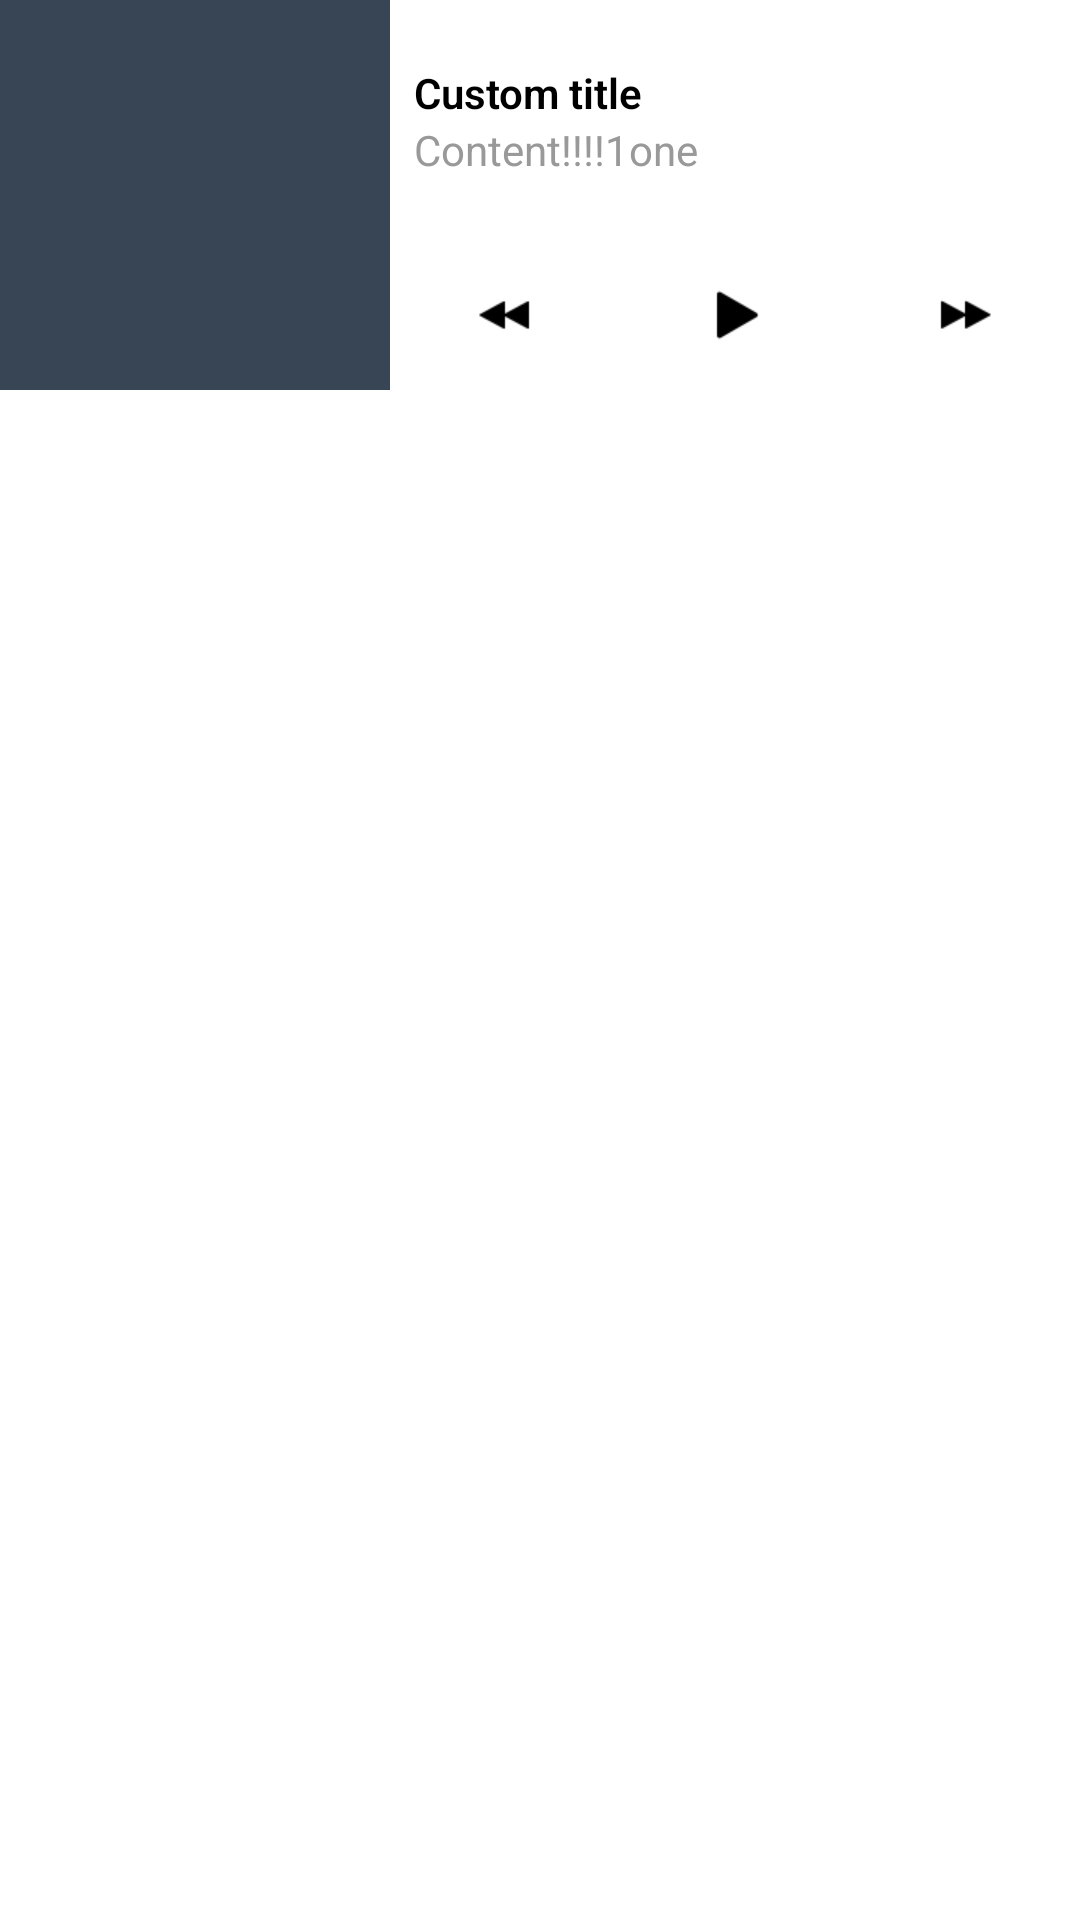

Locate icon controls on the screen. Image size 1080px×1920px, boxes as rect(x1, y1, x2, y2).
next: rect(940, 300, 991, 329)
play: rect(716, 291, 758, 339)
previous: rect(479, 301, 530, 329)
